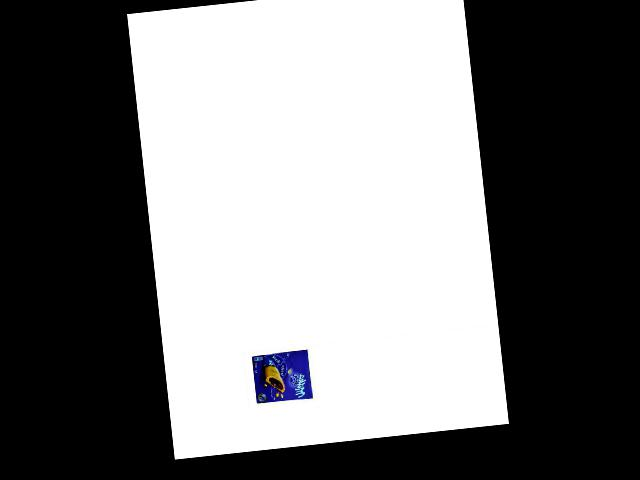chocolate: (247, 347, 316, 407)
